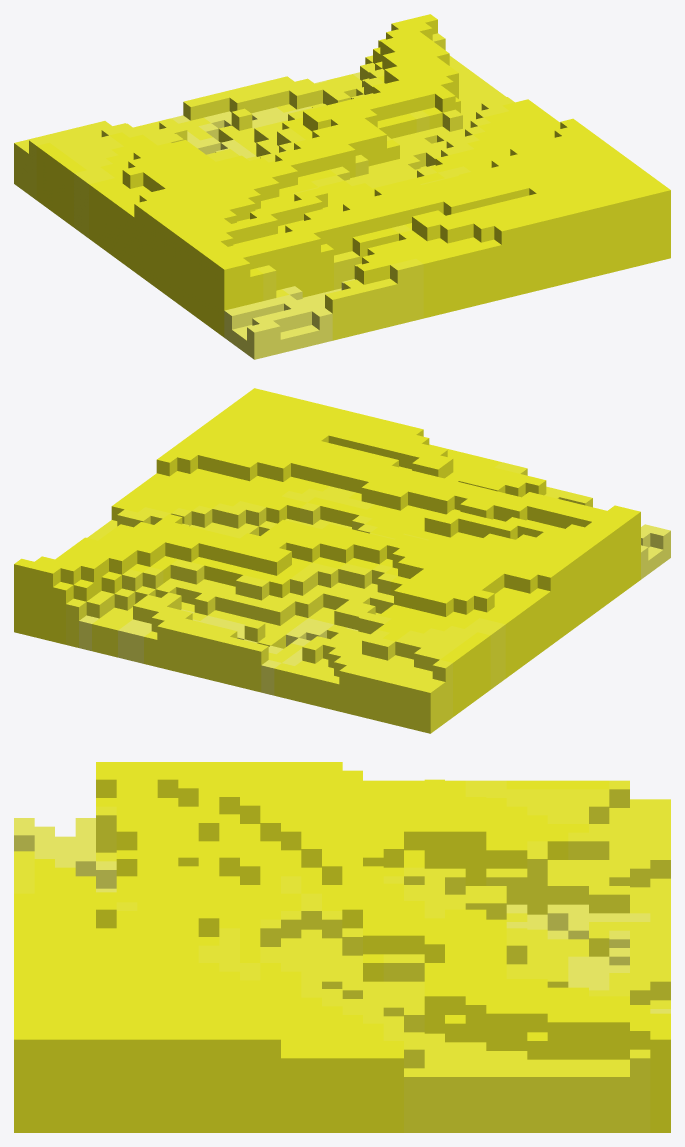
The model's file is Destert Map-16.obj.
3 renders of one model, top to bottom at view 1: azimuth 30°, elevation 25°; view 2: azimuth 150°, elevation 25°; view 3: azimuth 270°, elevation 25°, orthographic. The views are drawn at different scales.
Bounding box in the file's own units: 3.2 × 0.5 × 3.2.
Materials: 1 (1 with a texture image).
